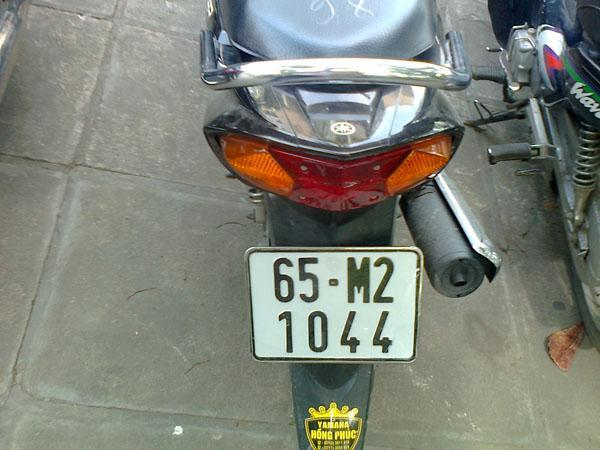License_Plate: (252, 248, 411, 363)
